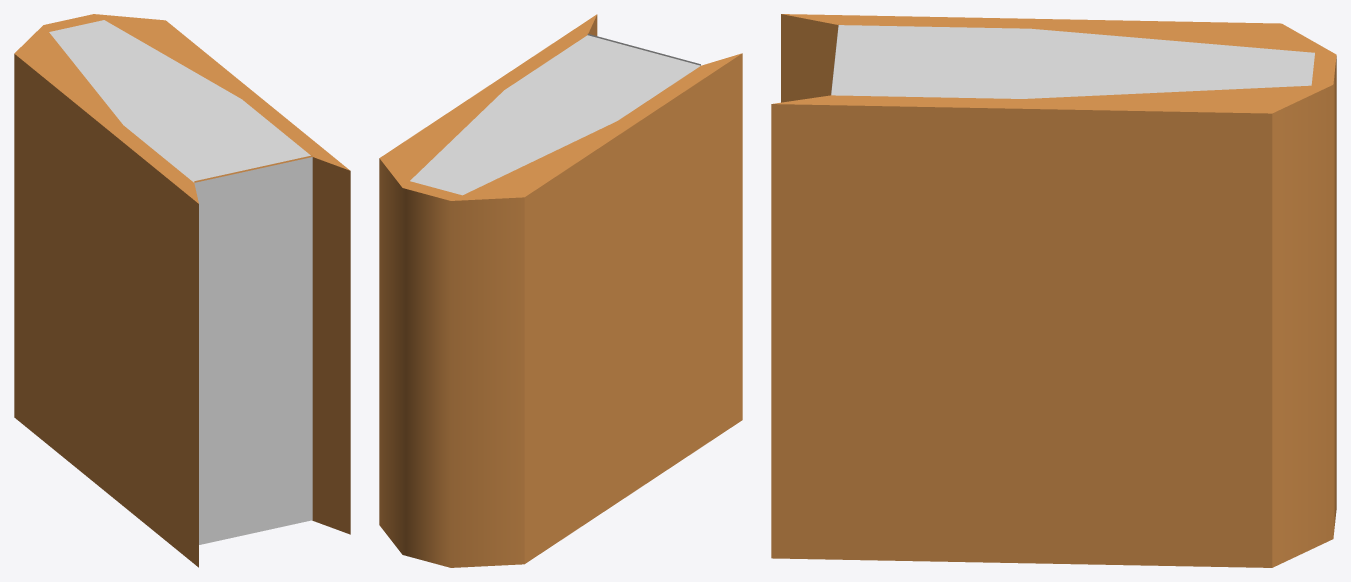
File: Book(Orange).fbx
3 renders of one model, left to right at view 1: azimuth 30°, elevation 25°; view 2: azimuth 150°, elevation 25°; view 3: azimuth 270°, elevation 25°, orthographic. The views are drawn at different scales.
Visible parts, largest first — view 1: Book_Orange; view 2: Book_Orange; view 3: Book_Orange.
Boxes of the visible parts, x1=… form: Book_Orange: x1=14, y1=14, x2=350, y2=567; Book_Orange: x1=379, y1=14, x2=742, y2=567; Book_Orange: x1=771, y1=14, x2=1336, y2=567.
Bounding box in the file's own units: 0.1932 × 0.4128 × 0.4635.
